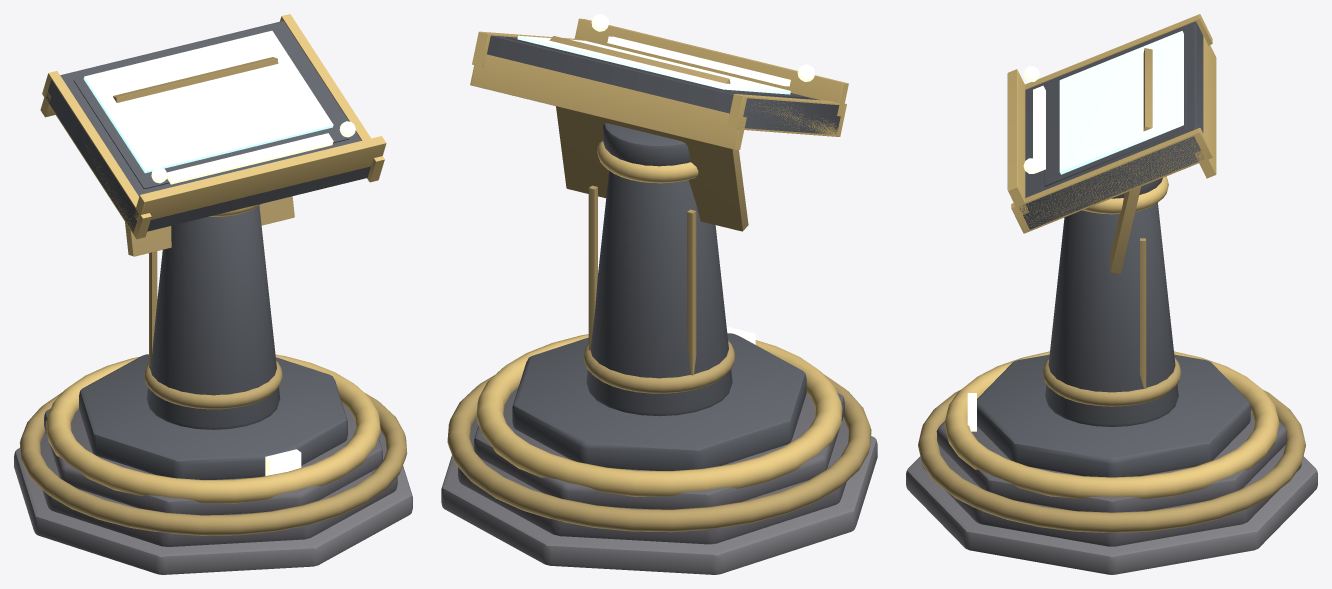
Rendered from hp_room_museum_info_lectern.glb.
3 renders of one model, left to right at view 1: azimuth 30°, elevation 25°; view 2: azimuth 150°, elevation 25°; view 3: azimuth 270°, elevation 25°, orthographic. The views are drawn at different scales.
Parts seen in each view (by area): view 1: room_museum_info_lectern; view 2: room_museum_info_lectern; view 3: room_museum_info_lectern.
Boxes of the visible parts, x1,y1,x2,y2 form: room_museum_info_lectern: (14,14,412,574); room_museum_info_lectern: (441,14,877,574); room_museum_info_lectern: (906,14,1317,574).
Bounding box in the file's own units: 0.7955 × 0.8883 × 0.7955.
